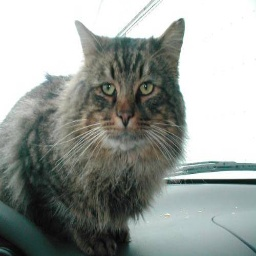cat: (2, 21, 192, 244)
